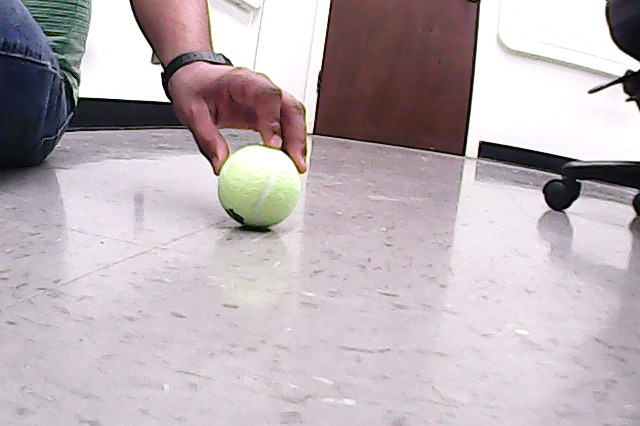ball: (217, 143, 304, 231)
